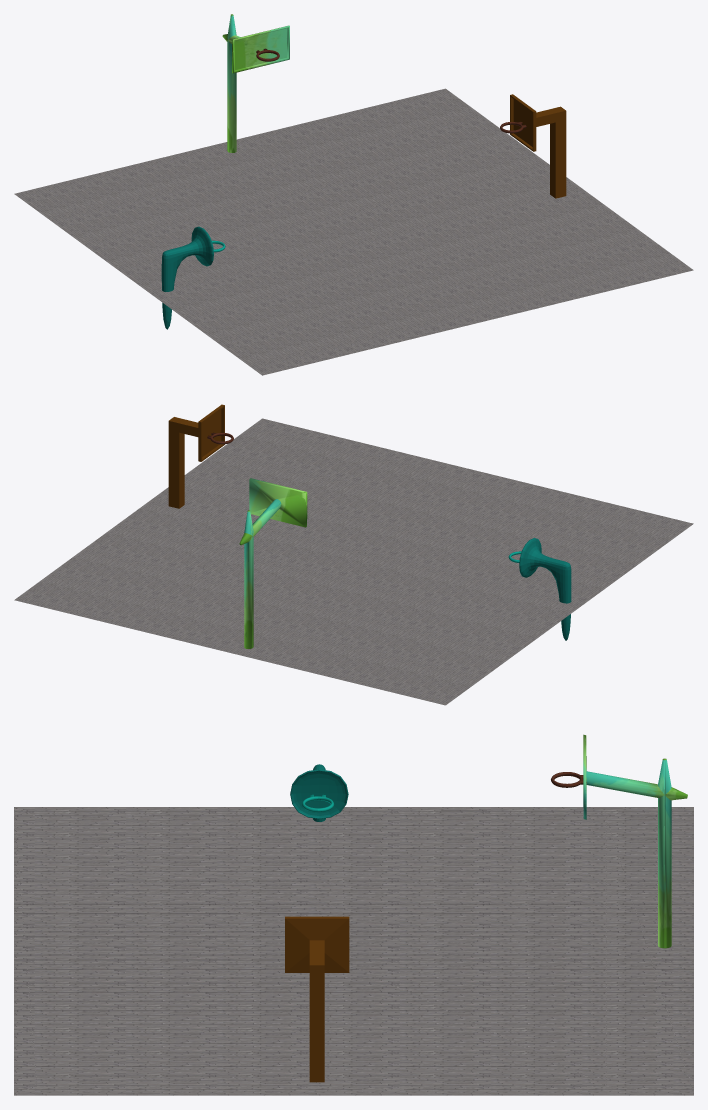
File: boll.glb
3 renders of one model, top to bottom at view 1: azimuth 30°, elevation 25°; view 2: azimuth 150°, elevation 25°; view 3: azimuth 270°, elevation 25°, orthographic. The views are drawn at different scales.
Visible parts, largest first — view 1: 立方体.008, 立方体.009, 立方体.010, 柱体.001, 篮板; view 2: 立方体.008, 柱体.001, 立方体.009, 立方体.010; view 3: 立方体.008, 立方体.009, 柱体.001, 立方体.010.
Part boxes in pixels (<box>): 立方体.008: <box>14,88,693,375</box>; 立方体.009: <box>510,94,566,198</box>; 立方体.010: <box>161,226,213,329</box>; 柱体.001: <box>222,14,289,152</box>; 篮板: <box>235,28,287,69</box>; 立方体.008: <box>14,418,693,705</box>; 柱体.001: <box>239,478,307,648</box>; 立方体.009: <box>168,404,224,508</box>; 立方体.010: <box>519,538,571,640</box>; 立方体.008: <box>14,807,693,1095</box>; 立方体.009: <box>285,916,349,1082</box>; 柱体.001: <box>583,734,687,948</box>; 立方体.010: <box>290,764,348,821</box>.
Bounding box in the file's own units: 8.62 × 3.44 × 8.59.
Materials: 6 (3 with a texture image).
